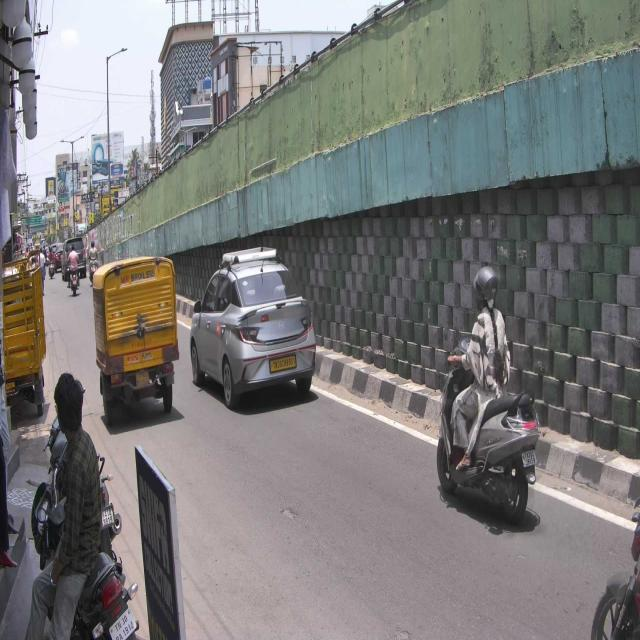single_rider: (436, 266, 541, 523)
